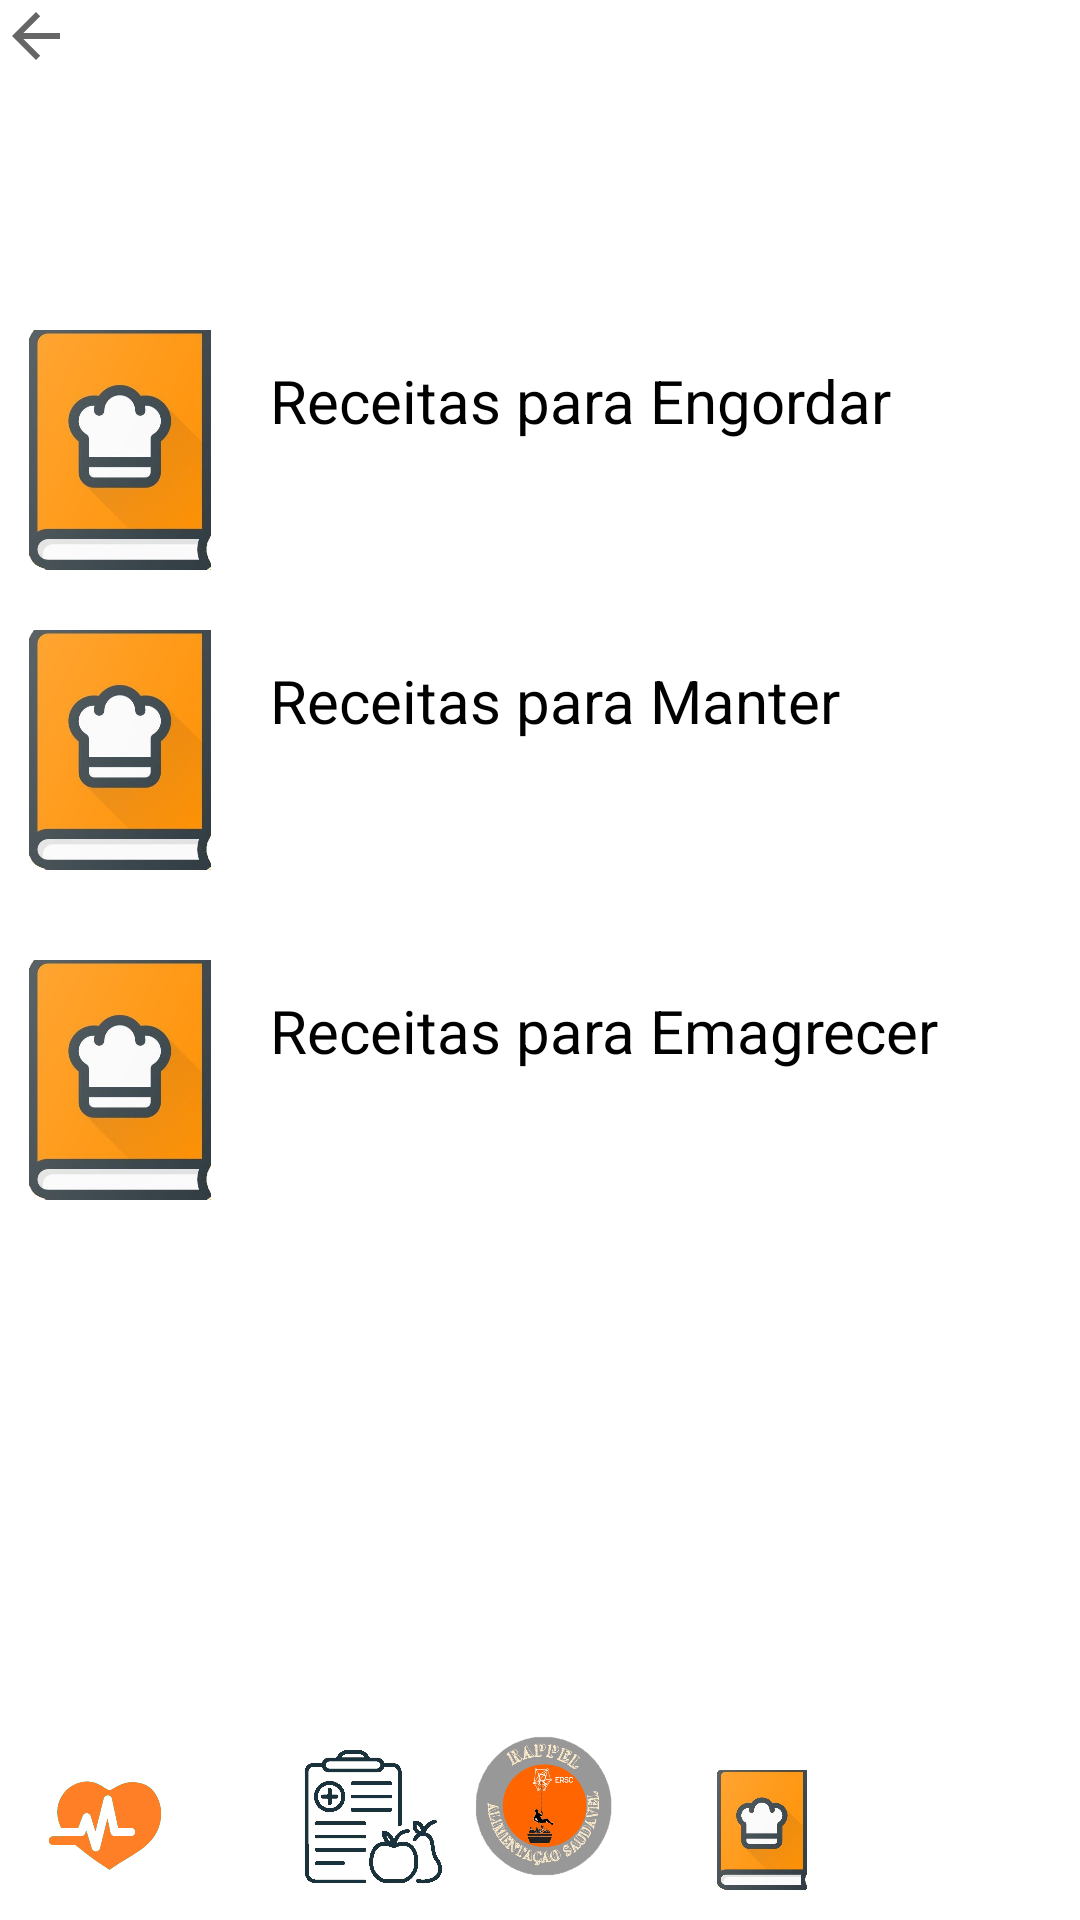

Locate icon controls on the screen. Image size 1080 x 1920, boxes as (x1, y1, x2, y2).
plano: (304, 1750, 442, 1883)
planodesaude: (49, 1781, 161, 1870)
